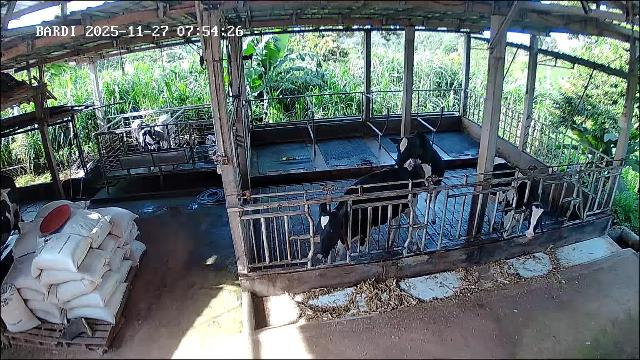mounting: (389, 132, 444, 222)
